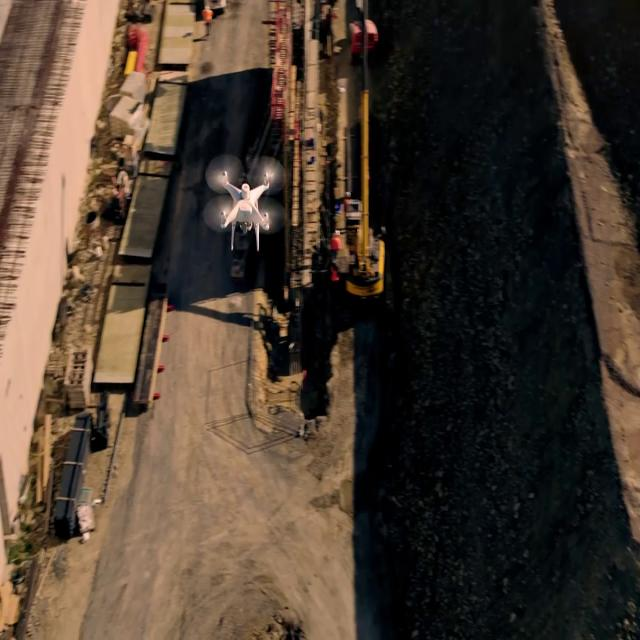drone: (201, 154, 285, 252)
